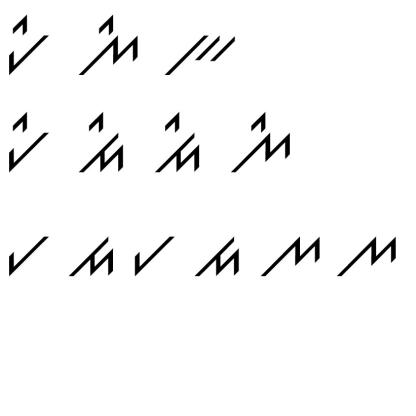da: (61, 228, 116, 283), (188, 230, 245, 283)
di: (150, 113, 210, 182), (75, 108, 128, 183)
na: (257, 228, 321, 283), (338, 227, 398, 285)
ni: (224, 113, 296, 184), (77, 7, 143, 79)
pa: (127, 230, 178, 278), (1, 228, 49, 278)
pi: (3, 6, 52, 77), (5, 109, 52, 174)
